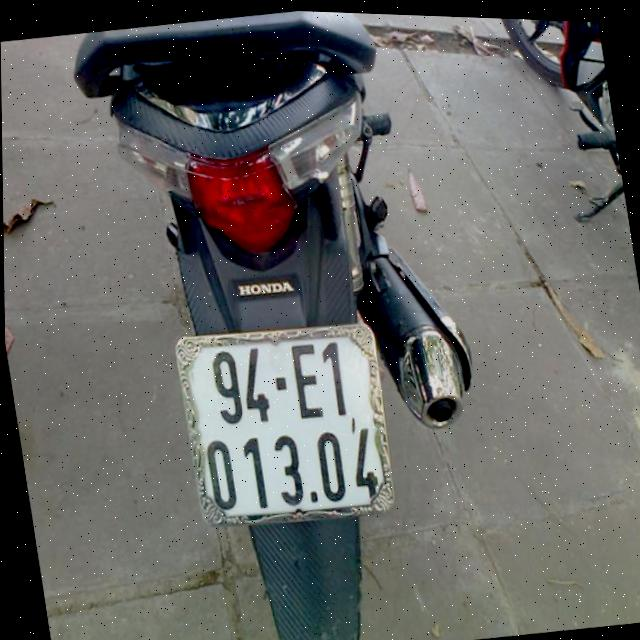motorcycle: (65, 2, 519, 640)
plate: (173, 308, 403, 541)
